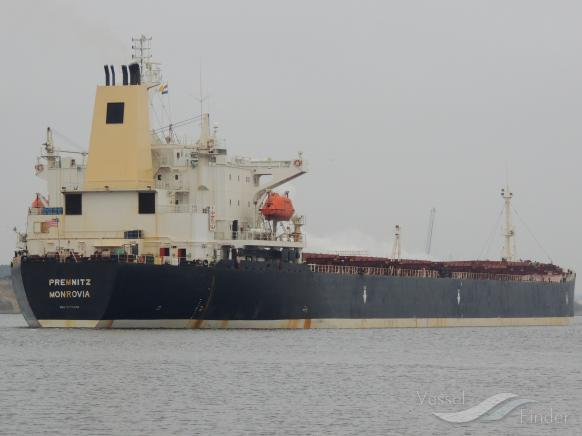OCR: (42, 276, 100, 302)
